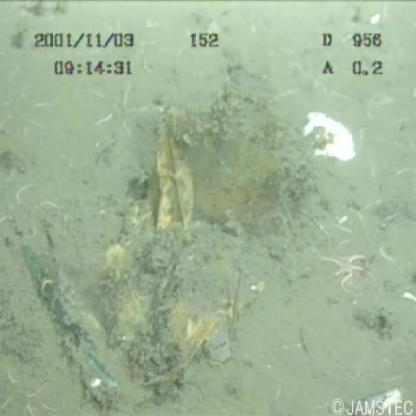Bio: (316, 239, 374, 297)
Rác: (11, 103, 250, 414)
